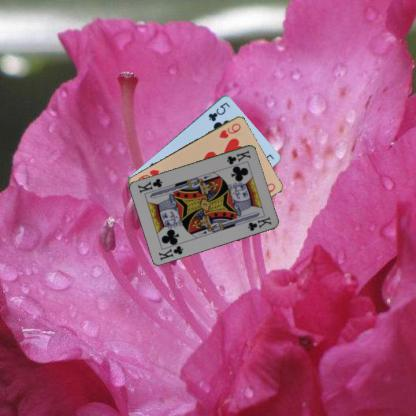5c: (206, 100, 231, 122)
9h: (216, 120, 242, 139)
Kc: (156, 242, 185, 262), (224, 148, 252, 166)
